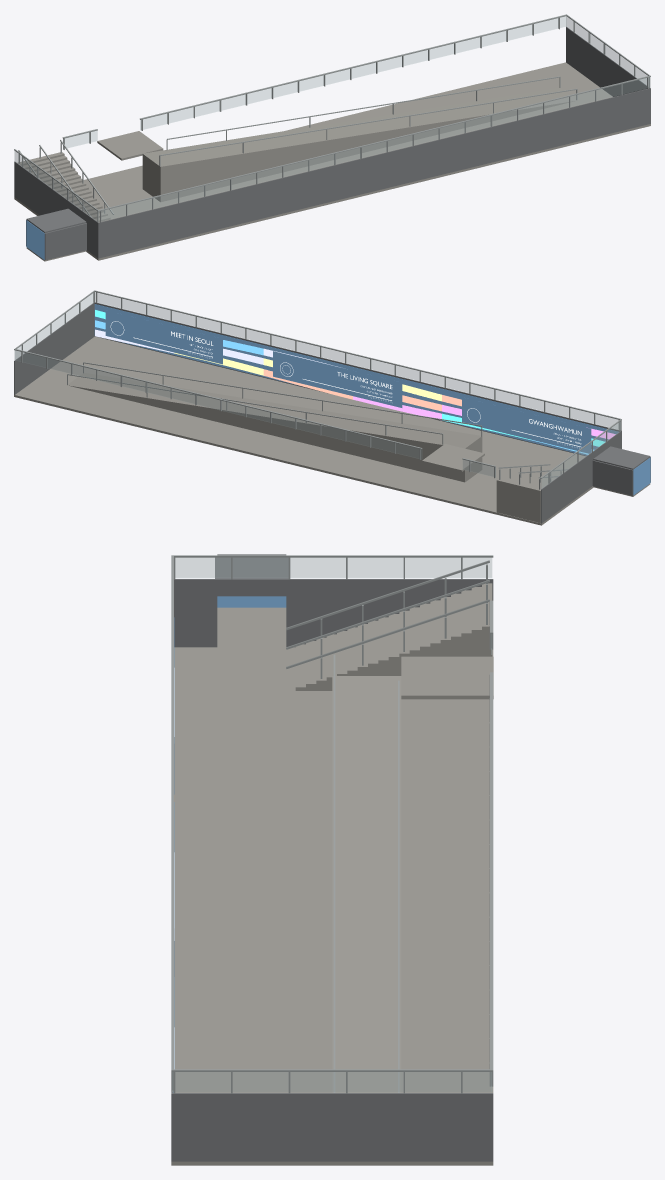
The model's file is 20261103-sunken-court.glb.
3 renders of one model, top to bottom at view 1: azimuth 30°, elevation 25°; view 2: azimuth 150°, elevation 25°; view 3: azimuth 270°, elevation 25°, orthographic. The views are drawn at different scales.
Visible parts, largest first — view 1: Sunken side and media-wall retaining walls, Long sloped access ramp - approximate, Upper glass balustrades, Sunken floor, Upper rail cap, Twenty descending stair treads, Passage wall and ceiling, Upper glass balustrade posts, Upper ramp landing, Ramp sloping handrail, Ramp sloping handrail.001, Passage dark end; view 2: Sunken floor, Long sloped access ramp - approximate, Upper glass balustrades, Screen editorial inset panels, Sunken side and media-wall retaining walls, Sunken media wall black frame, Original abstract media artwork, Upper rail cap, Twenty descending stair treads, Passage wall and ceiling, Upper glass balustrade posts, Upper ramp landing (+3 smaller); view 3: Sunken floor, Sunken side and media-wall retaining walls, Long sloped access ramp - approximate, Upper glass balustrades, Twenty descending stair treads, Upper rail cap, Upper ramp landing, Passage floor, Passage wall and ceiling, Upper glass balustrade posts, Ramp sloping handrail.
Boxes of the visible parts, x1,y1,x2,y2 form: Sunken side and media-wall retaining walls: [14, 26, 650, 258]; Long sloped access ramp - approximate: [142, 87, 576, 201]; Upper glass balustrades: [14, 16, 649, 221]; Sunken floor: [14, 62, 650, 260]; Upper rail cap: [14, 14, 650, 211]; Twenty descending stair treads: [17, 152, 110, 222]; Passage wall and ceiling: [26, 208, 86, 260]; Upper glass balustrade posts: [22, 16, 650, 222]; Upper ramp landing: [97, 131, 163, 160]; Ramp sloping handrail: [160, 88, 576, 155]; Ramp sloping handrail.001: [167, 76, 559, 139]; Passage dark end: [26, 220, 44, 259]; Sunken floor: [14, 336, 593, 525]; Long sloped access ramp - approximate: [67, 372, 482, 482]; Upper glass balustrades: [14, 292, 620, 488]; Screen editorial inset panels: [105, 310, 591, 453]; Sunken side and media-wall retaining walls: [14, 302, 621, 523]; Sunken media wall black frame: [94, 304, 618, 455]; Original abstract media artwork: [95, 310, 615, 454]; Upper rail cap: [14, 290, 621, 478]; Twenty descending stair treads: [496, 475, 556, 522]; Passage wall and ceiling: [592, 446, 650, 495]; Upper glass balustrade posts: [21, 291, 621, 483]; Upper ramp landing: [422, 444, 484, 472]; Sunken floor: [171, 646, 493, 1165]; Sunken side and media-wall retaining walls: [171, 579, 493, 1161]; Long sloped access ramp - approximate: [332, 676, 401, 1092]; Upper glass balustrades: [172, 558, 492, 1091]; Twenty descending stair treads: [285, 583, 492, 690]; Upper rail cap: [171, 555, 493, 1071]; Upper ramp landing: [401, 656, 493, 699]; Passage floor: [217, 607, 286, 646]; Passage wall and ceiling: [215, 554, 288, 578]; Upper glass balustrade posts: [171, 555, 493, 1093]; Ramp sloping handrail: [333, 654, 335, 1092].
Size of the model in its own units: 57.04 by 4.58 by 14.02.
